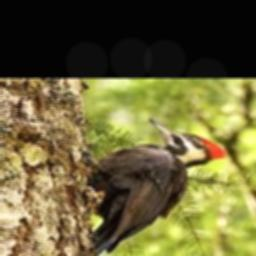Woodpecker: (86, 117, 226, 256)
